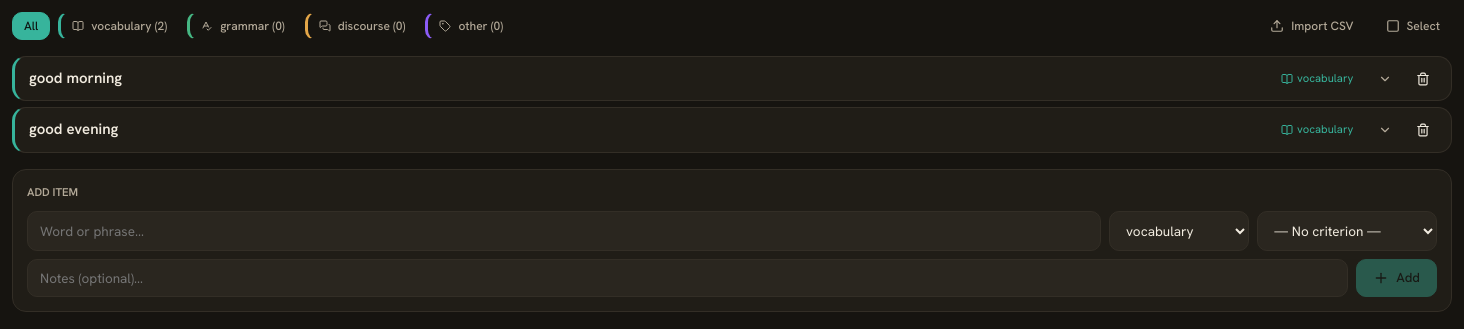
Test: VocabularyListEditor › supports multi-select mode and bulk delete
The width and height of the screenshot is (1464, 329).
Step 1. Click the button "Select" → (1413, 26), box [1374,12,1452,40]
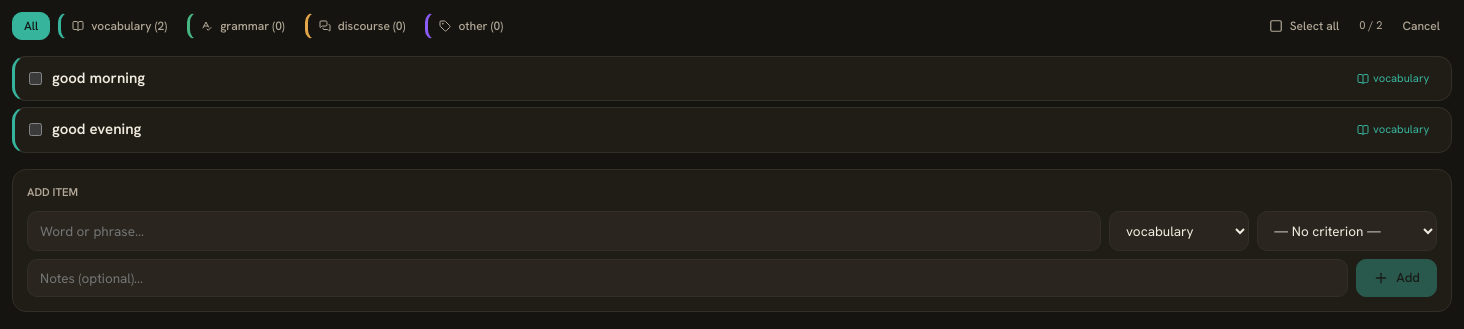
Expected: the text "0 / 2" is shown, [1359,17,1382,35]
Step 2. Click the checkbox next to "good morning" → (36, 79), box [29,72,42,85]
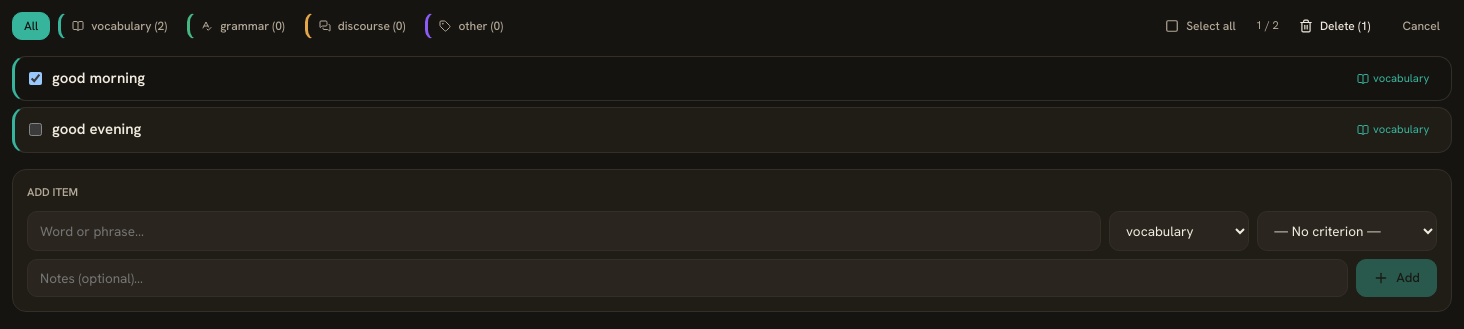
Expected: the text "1 / 2" is shown, [1256,17,1279,35]
Step 3. Click the button "Select all" → (1200, 26), box [1153,12,1248,40]
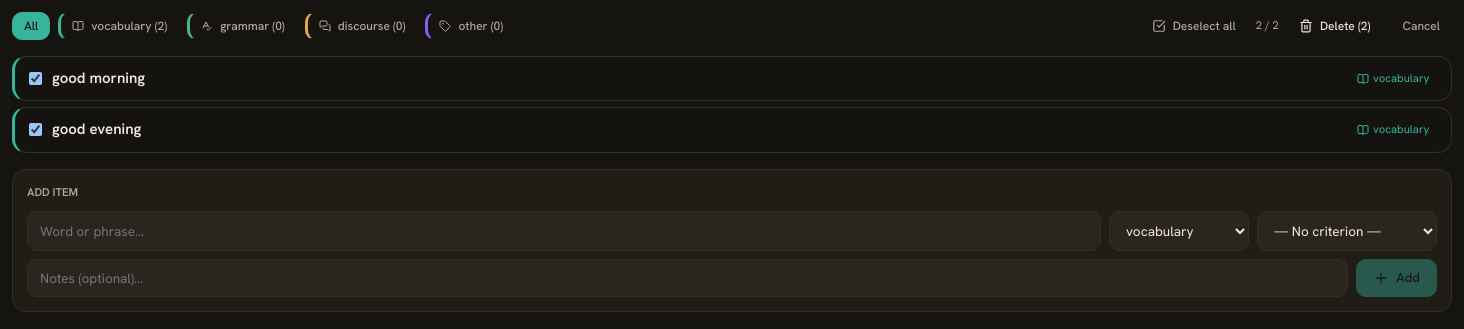
Expected: the text "2 / 2" is shown, [1256,17,1279,35]
Step 4. Click the button "Delete (2)" → (1335, 26), box [1287,12,1382,40]
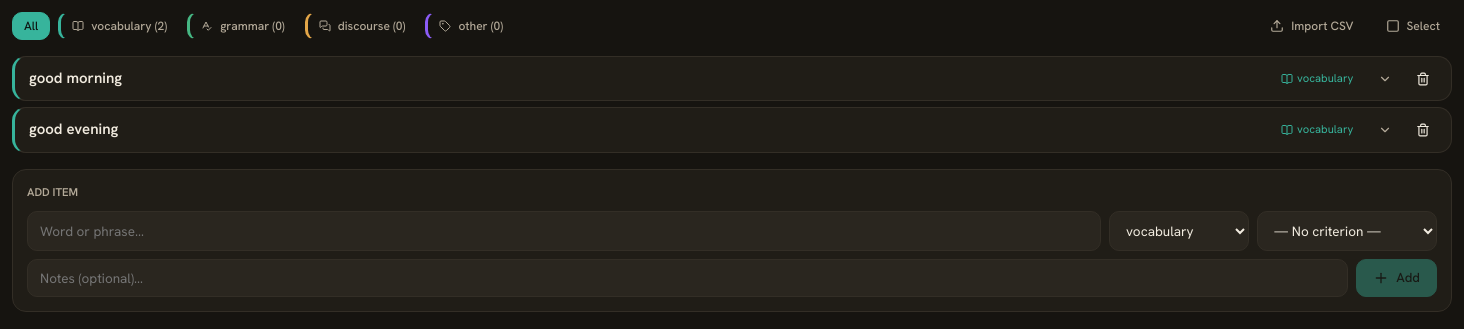
Expected: the text "2 / 2" is gone
